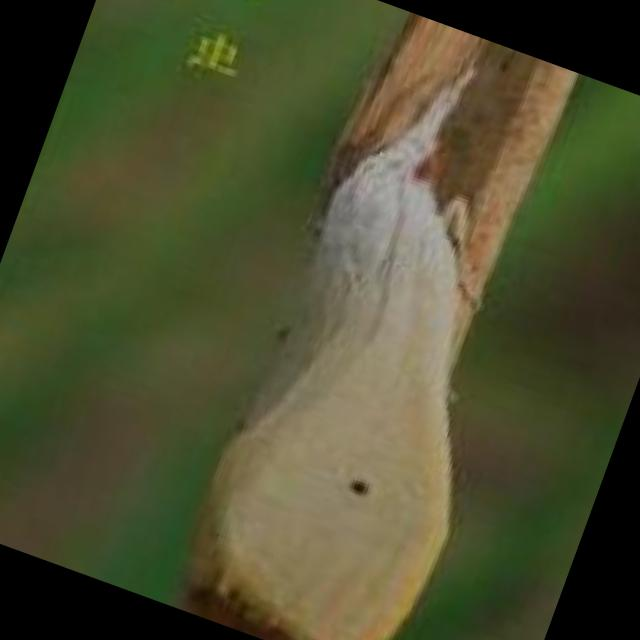stem-borer: (164, 25, 608, 640)
